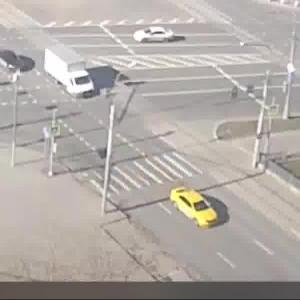car: (48, 45, 97, 99), (169, 186, 221, 232), (1, 46, 28, 78), (135, 25, 175, 45)
